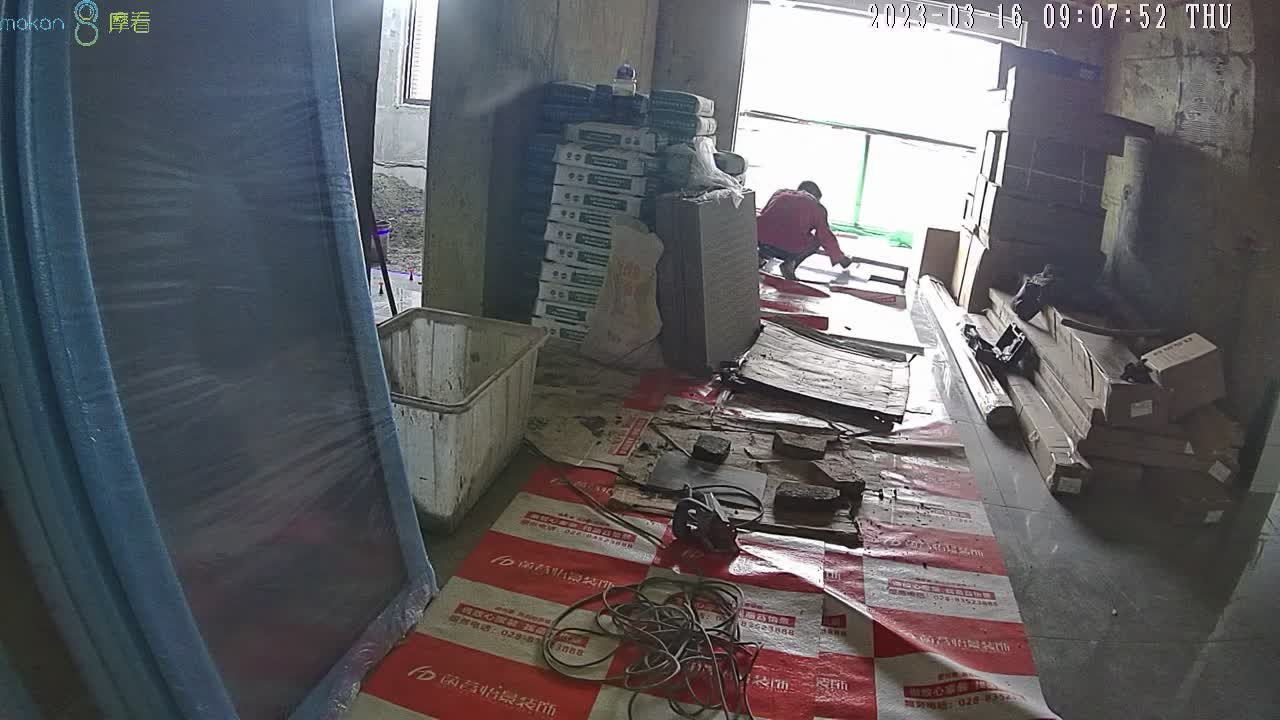people: (758, 180, 850, 280)
window: (737, 1, 1001, 228)
